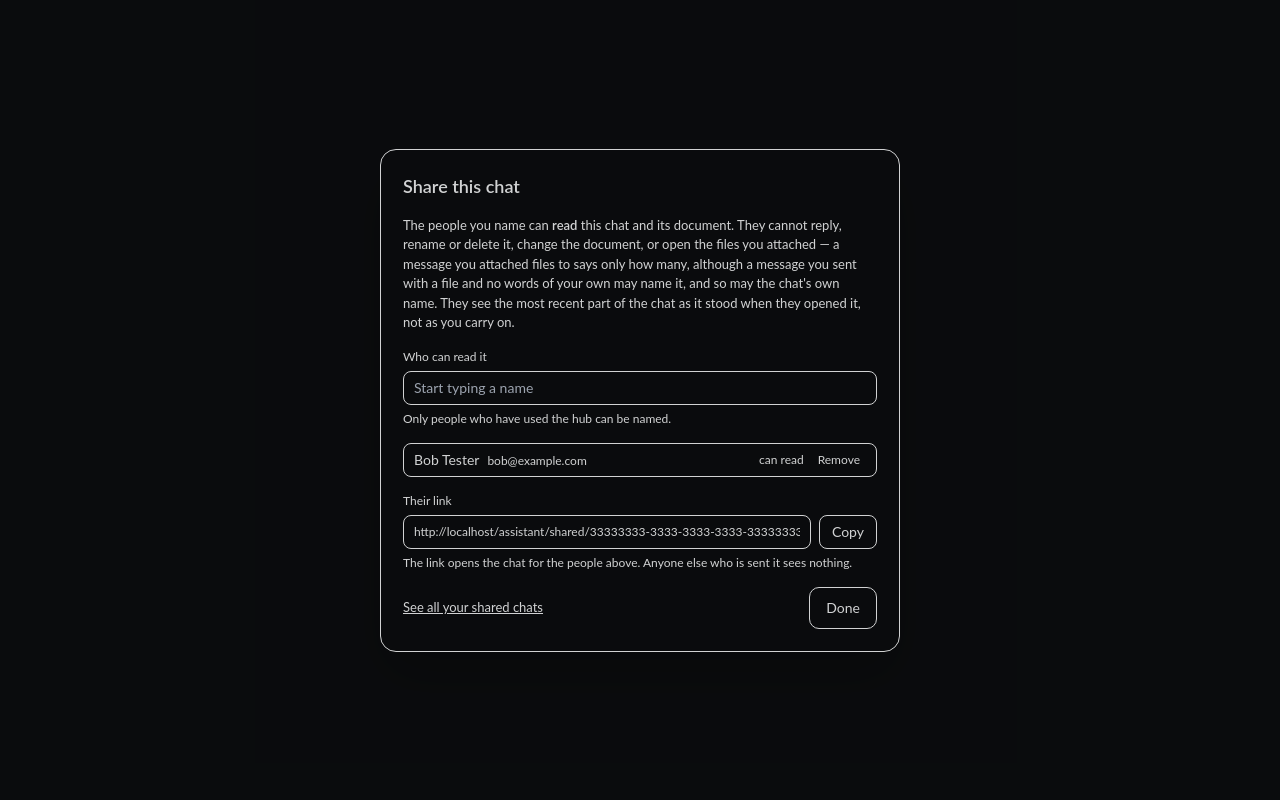
Test: ShareDialog › should take a person off the list when their share is removed
Step 1. Click the button "Remove" → (839, 460), box [812,452,866,468]
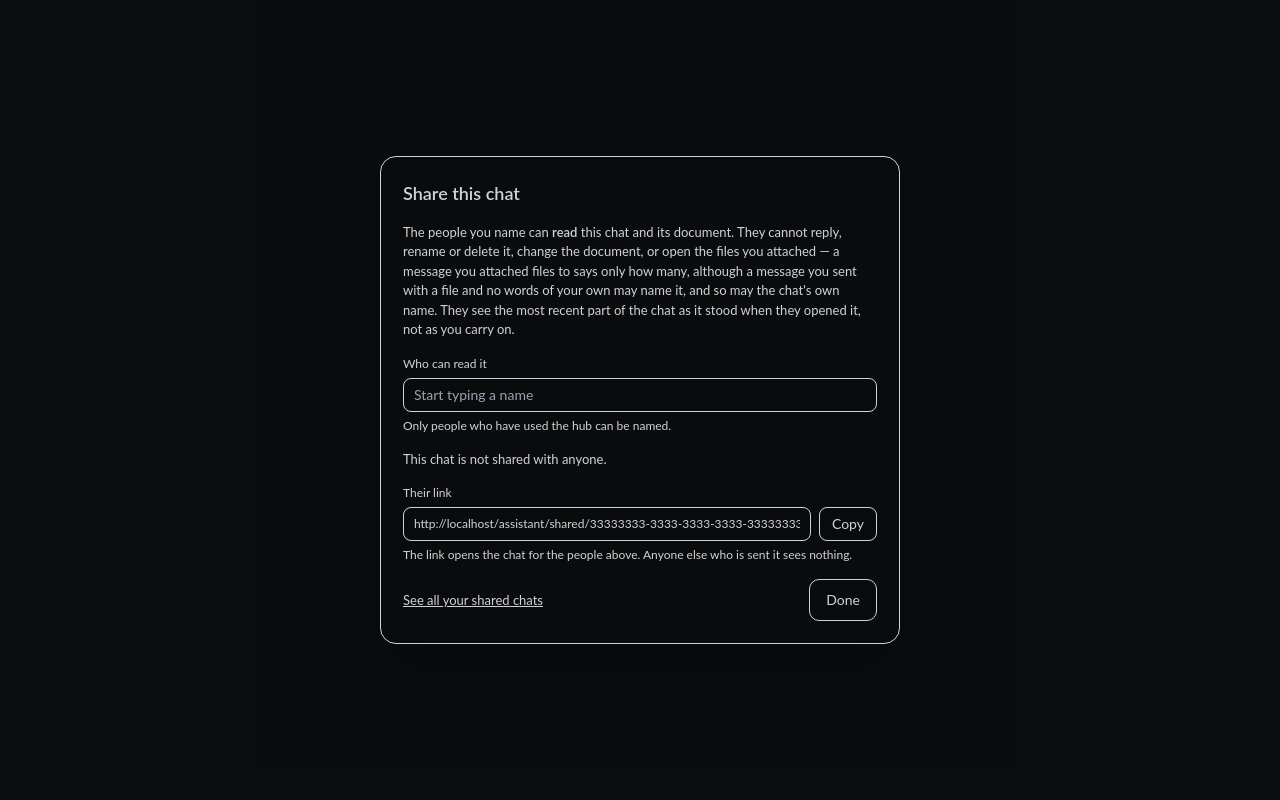
Result: the text "This chat is not shared with anyone." is shown at [403,451,606,467]
